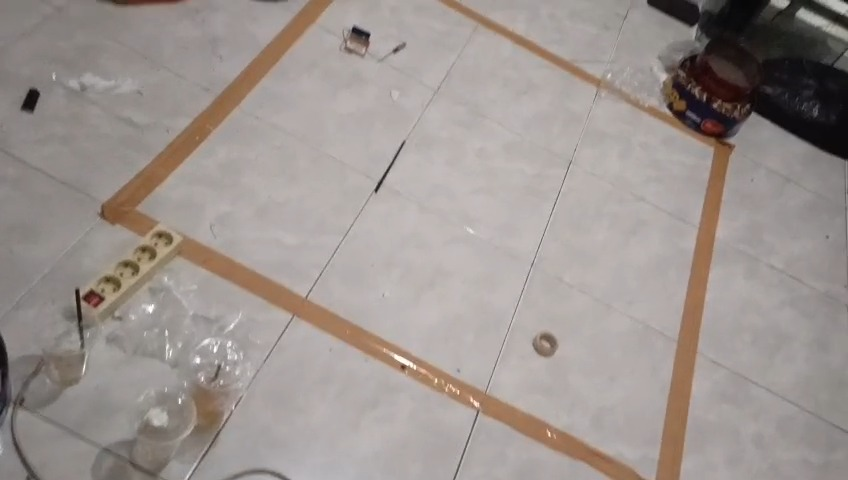floor marking: (440, 0, 733, 479), (181, 237, 644, 479), (101, 0, 332, 234)
